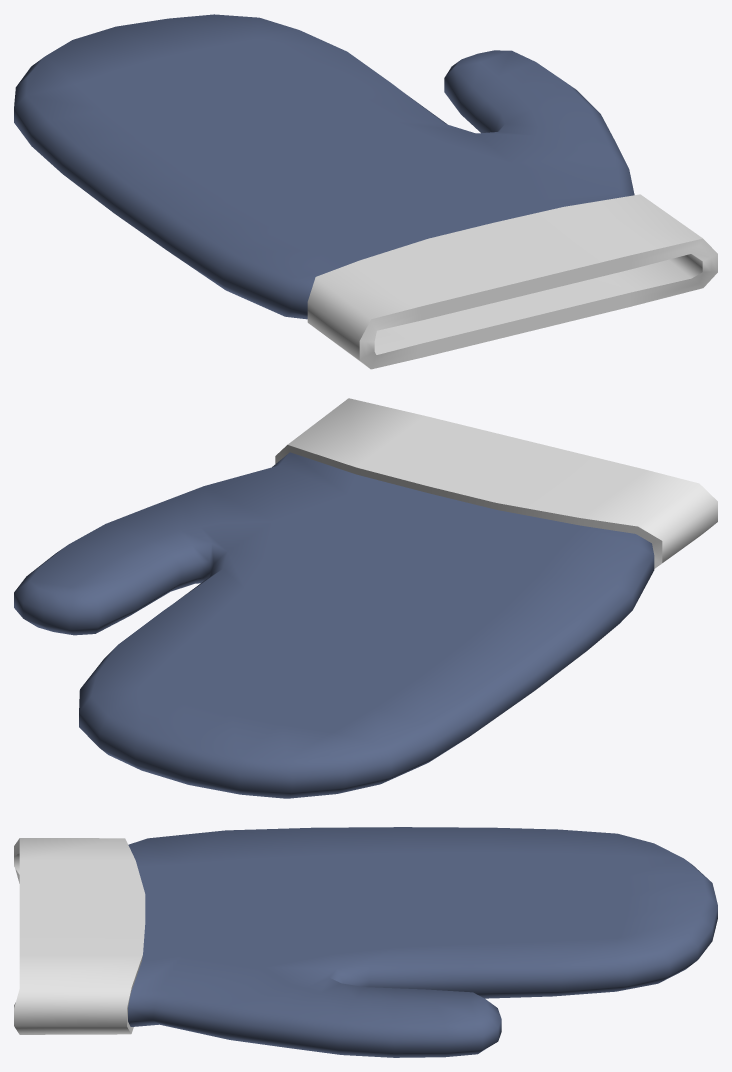
Rendered from Mitten_fbx.fbx.
The picture shows the model from 3 angles, top to bottom: view 1: azimuth 30°, elevation 25°; view 2: azimuth 150°, elevation 25°; view 3: azimuth 270°, elevation 25°; orthographic projection. The views are drawn at different scales.
Visible parts, largest first — view 1: Mitten; view 2: Mitten; view 3: Mitten.
Part boxes in pixels (bbox=[...]): Mitten: bbox=[14, 14, 717, 369]; Mitten: bbox=[14, 398, 717, 798]; Mitten: bbox=[14, 827, 717, 1057].
Size of the model in its own units: 68.28 by 7.32 by 97.75.
